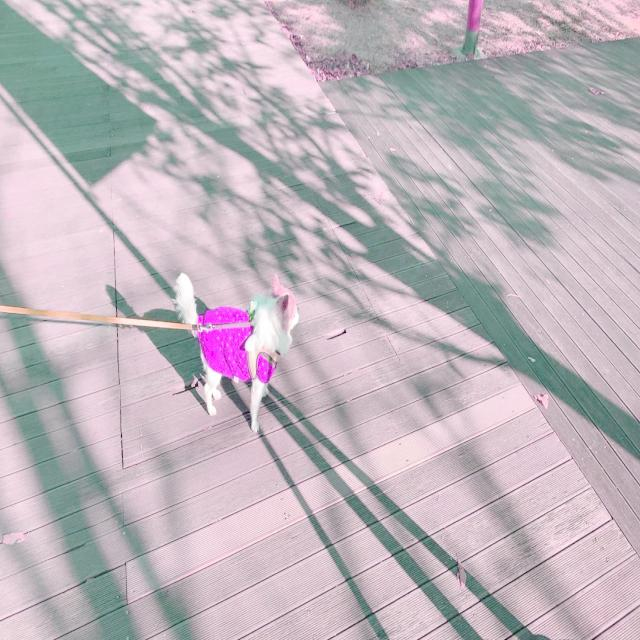Dog: (173, 270, 300, 435)
